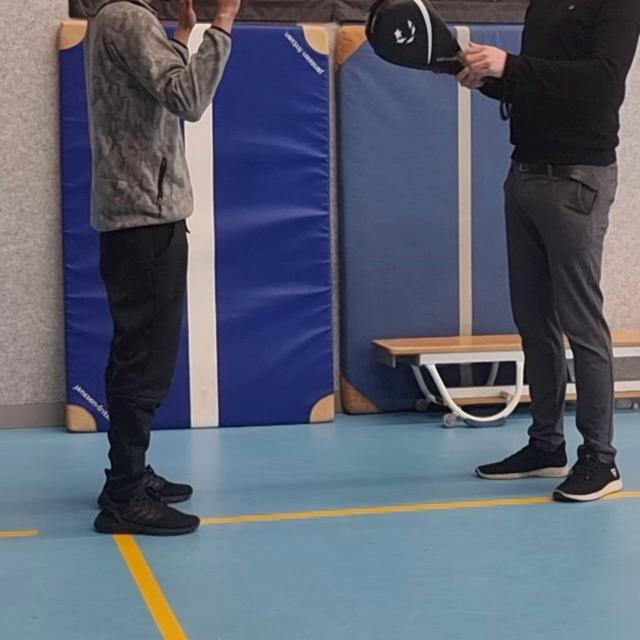paddle: (366, 0, 467, 78)
